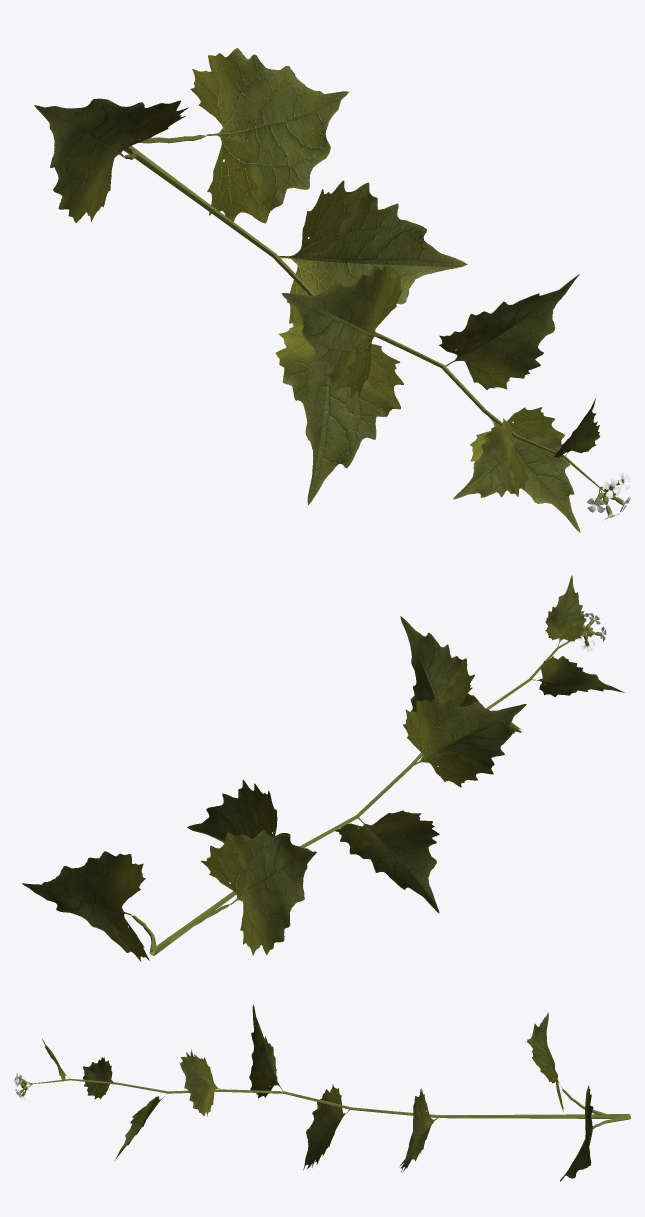
The picture shows the model from 3 angles, top to bottom: view 1: azimuth 30°, elevation 25°; view 2: azimuth 150°, elevation 25°; view 3: azimuth 270°, elevation 25°; orthographic projection. The views are drawn at different scales.
Parts seen in each view (by area): view 1: GC02_2; view 2: GC02_2; view 3: GC02_2.
Boxes of the visible parts, box(x1,y1,x2,y2) form: GC02_2: box(34, 48, 630, 532); GC02_2: box(22, 575, 624, 961); GC02_2: box(14, 1004, 630, 1181).
Size of the model in its own units: 0.3712 by 0.2786 by 0.9171.
3 materials, 3 textured.
